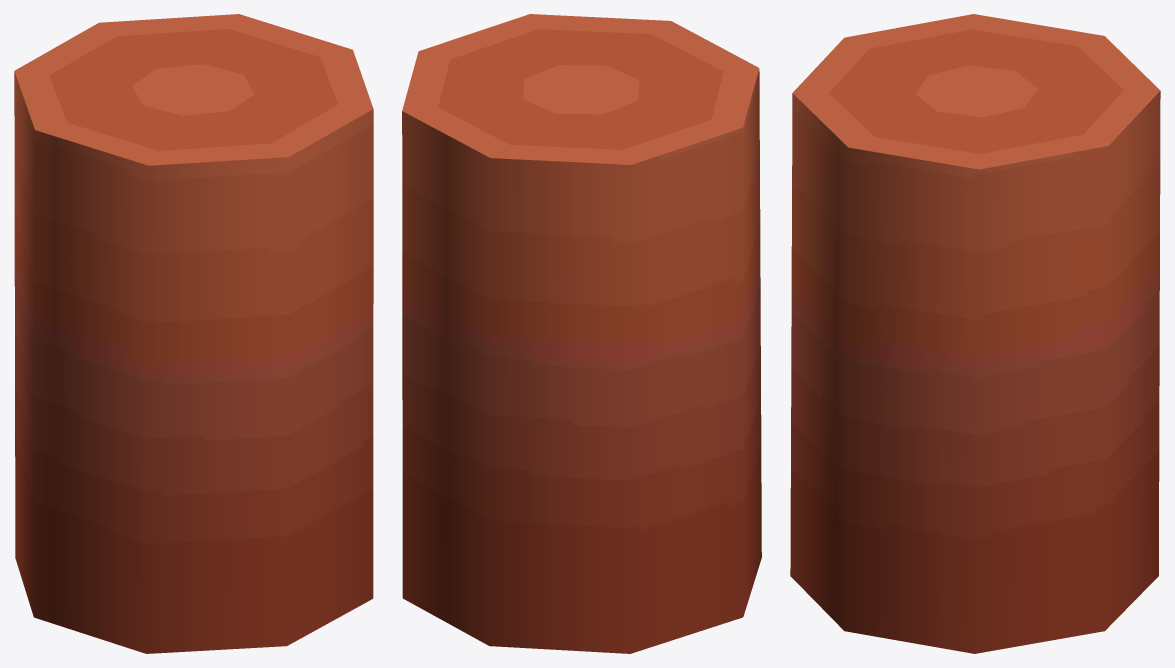
Rendered from Wood.fbx.
3 views of the same model, side by side, from view 1: azimuth 30°, elevation 25°; view 2: azimuth 150°, elevation 25°; view 3: azimuth 270°, elevation 25° (orthographic).
Visible parts, largest first — view 1: agch; view 2: agch; view 3: agch.
Boxes of the visible parts, box(x1,y1,x2,y2) form: agch: box(14, 14, 373, 653); agch: box(402, 14, 761, 653); agch: box(790, 14, 1160, 653).
Bounding box in the file's own units: 0.5486 × 0.7953 × 0.5504.
